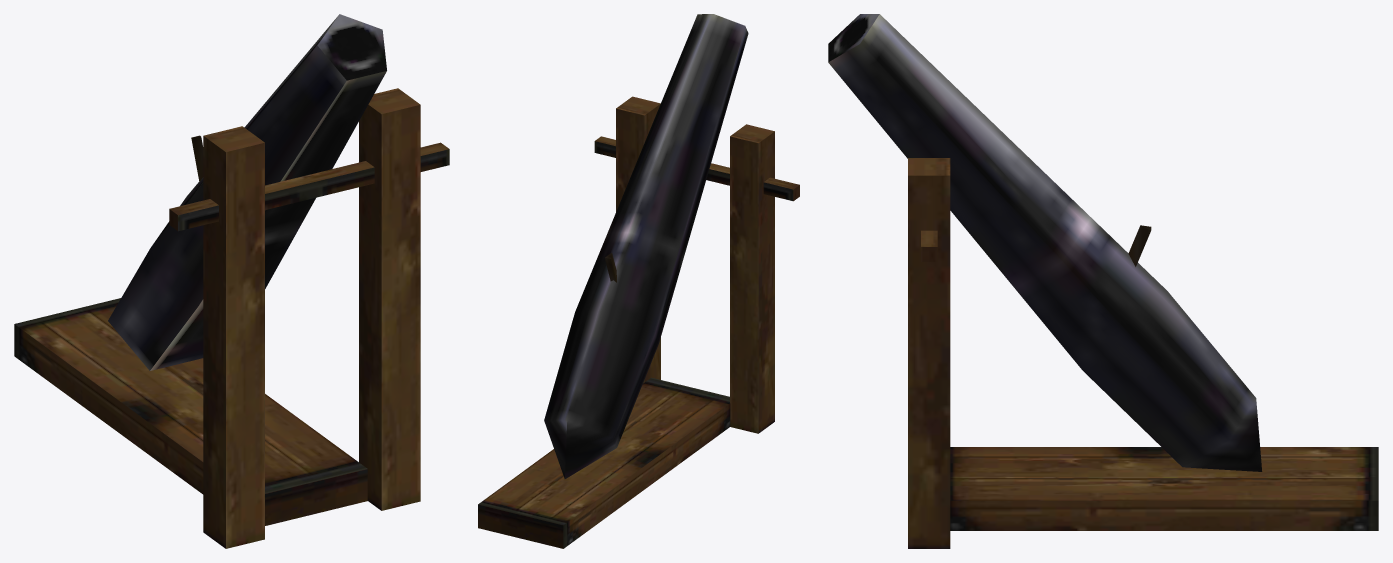
The picture shows the model from 3 angles, left to right: view 1: azimuth 30°, elevation 25°; view 2: azimuth 150°, elevation 25°; view 3: azimuth 270°, elevation 25°; orthographic projection. The views are drawn at different scales.
Visible parts, largest first — view 1: Cannon03; view 2: Cannon03; view 3: Cannon03.
Part boxes in pixels (x1,y1,x2,y2): Cannon03: [14, 14, 449, 548]; Cannon03: [478, 14, 799, 548]; Cannon03: [828, 14, 1378, 548].
Bounding box in the file's own units: 72.65 × 133 × 136.
